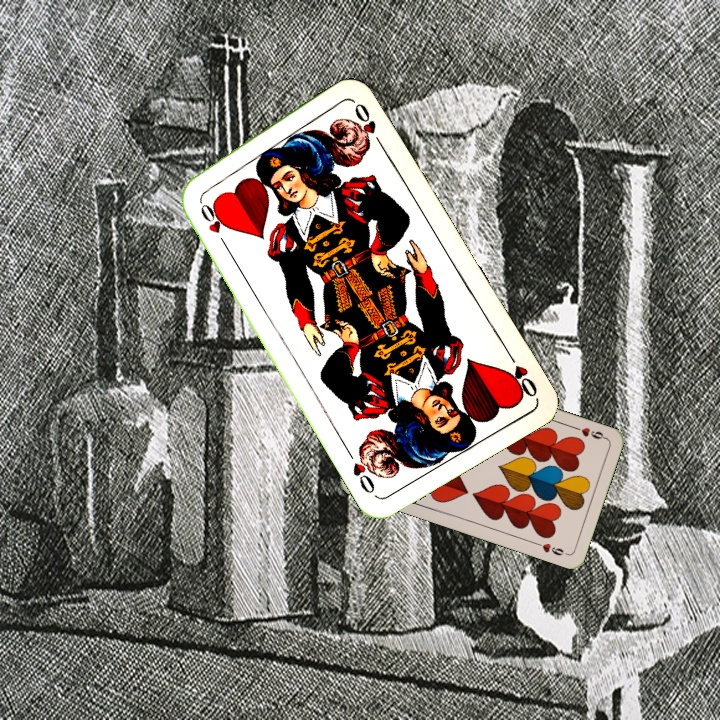H9: (569, 422, 609, 442)
HO: (194, 192, 232, 248), (502, 347, 540, 401)
